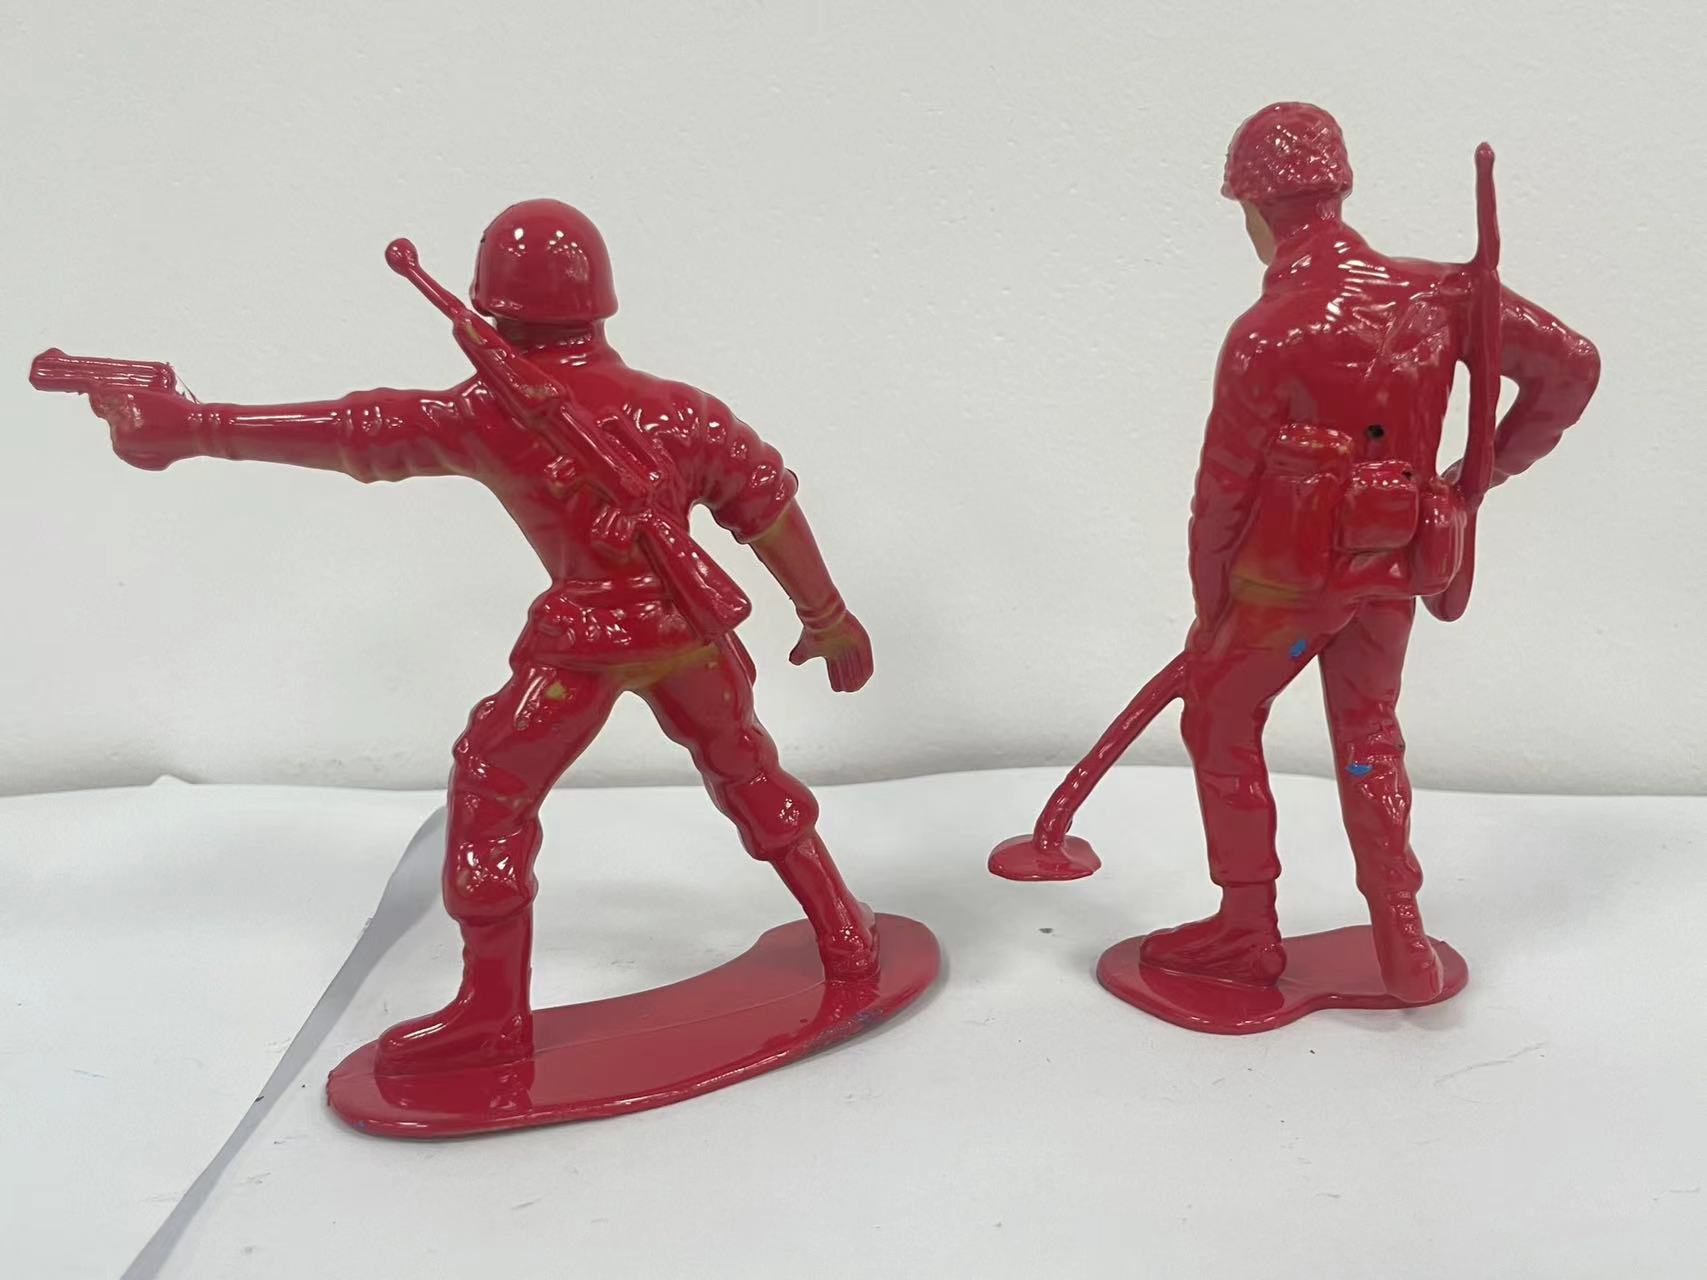red: (19, 184, 956, 1189), (961, 52, 1647, 1137)
